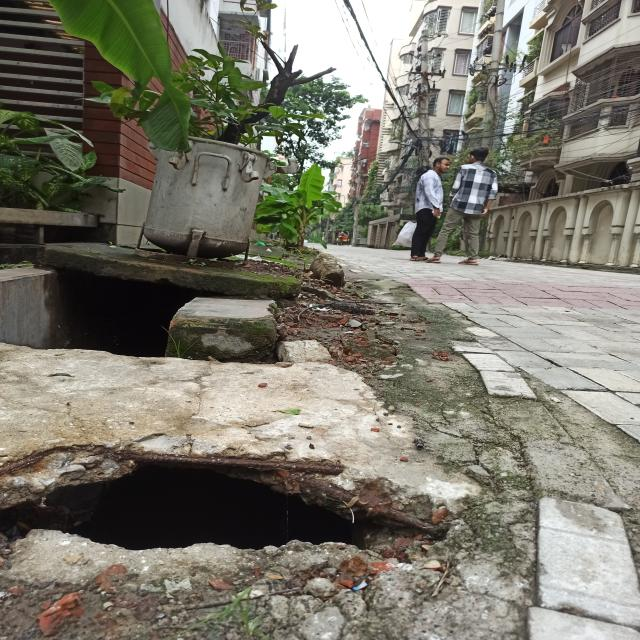artificial_container: (140, 135, 296, 259)
